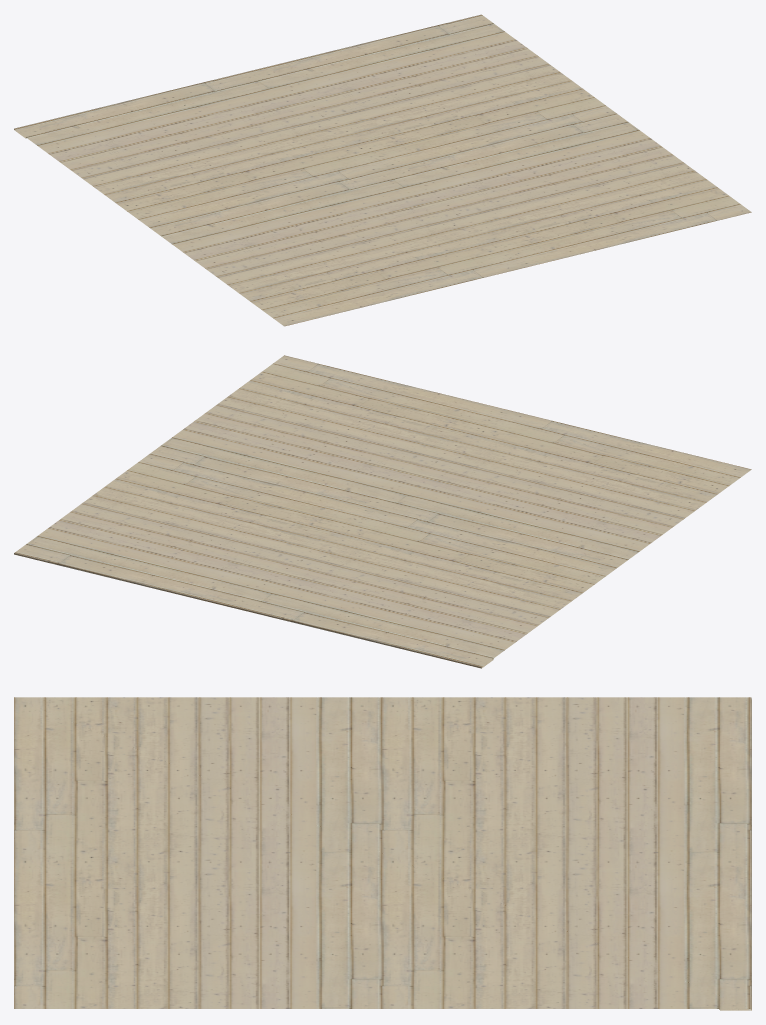
File: Roof_UnderPlanks_Porch.FBX
3 renders of one model, top to bottom at view 1: azimuth 30°, elevation 25°; view 2: azimuth 150°, elevation 25°; view 3: azimuth 270°, elevation 25°, orthographic. The views are drawn at different scales.
Visible parts, largest first — view 1: Roof_UnderPlanks_Porch; view 2: Roof_UnderPlanks_Porch; view 3: Roof_UnderPlanks_Porch.
Boxes of the visible parts, bbox=[...] form: Roof_UnderPlanks_Porch: bbox=[14, 14, 751, 326]; Roof_UnderPlanks_Porch: bbox=[14, 355, 751, 668]; Roof_UnderPlanks_Porch: bbox=[14, 697, 751, 1010].
Bounding box in the file's own units: 200 × 0.6095 × 200.
